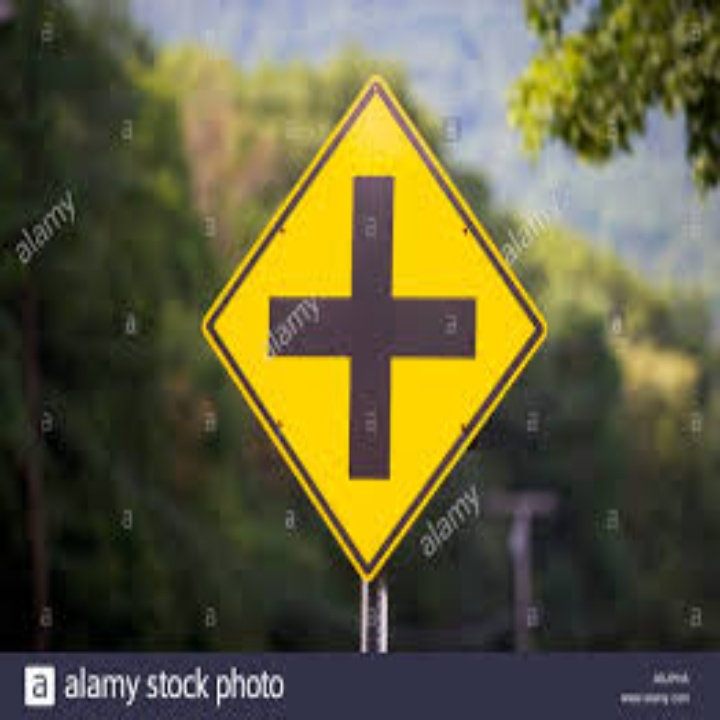inter: (256, 168, 485, 492)
